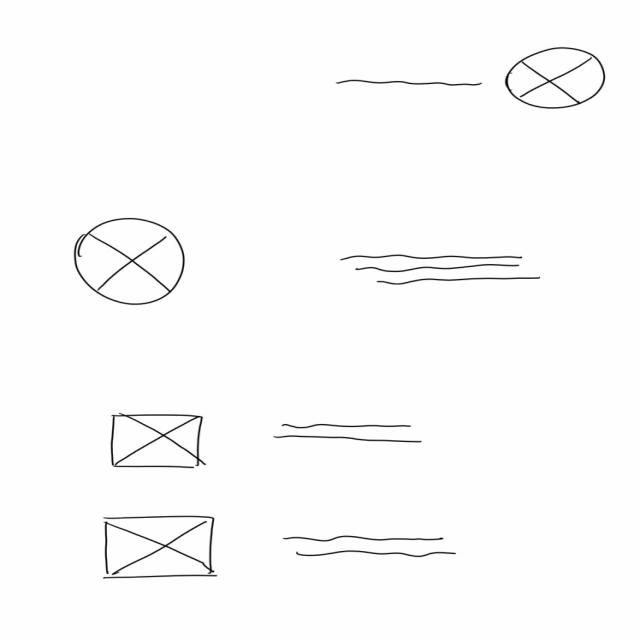image: (74, 217, 188, 307), (103, 516, 219, 582), (505, 46, 607, 112), (111, 413, 209, 470)
text: (335, 79, 486, 90)
textbox: (339, 254, 544, 288), (283, 534, 461, 560), (273, 422, 426, 446)
